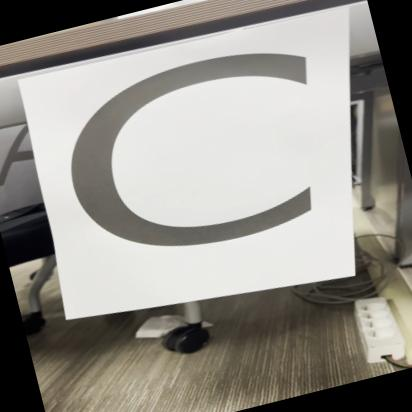seat: (27, 0, 393, 346)
